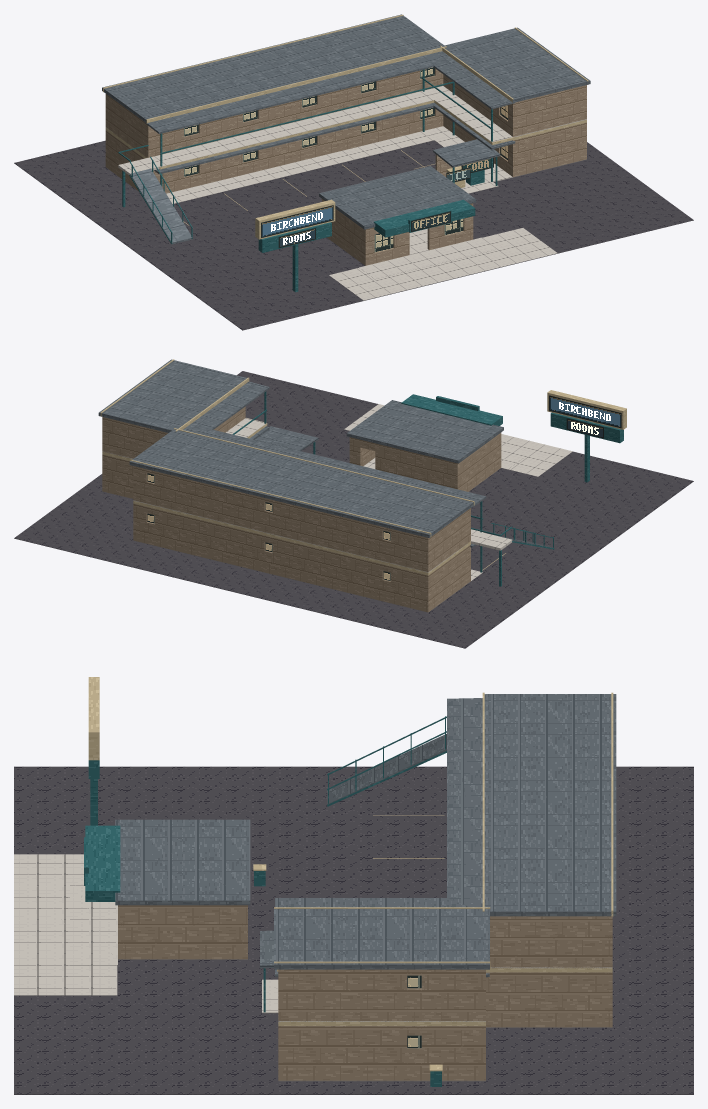
The model's file is birchbend-1985-far.glb.
3 renders of one model, top to bottom at view 1: azimuth 30°, elevation 25°; view 2: azimuth 150°, elevation 25°; view 3: azimuth 270°, elevation 25°, orthographic. The views are drawn at different scales.
Parts seen in each view (by area): view 1: shell, lot, exterior_stair, roadside_sign, sign_name_street, interior; view 2: shell, lot, roadside_sign, sign_name_exit, exterior_stair, interior; view 3: lot, shell, exterior_stair, roadside_sign, interior.
Boxes of the visible parts, bbox=[...] form: shell: bbox=[102, 14, 590, 265]; lot: bbox=[14, 140, 693, 330]; exterior_stair: bbox=[118, 145, 192, 244]; roadside_sign: bbox=[255, 199, 335, 292]; sign_name_street: bbox=[261, 205, 333, 237]; interior: bbox=[106, 119, 586, 265]; shell: bbox=[98, 359, 503, 612]; lot: bbox=[14, 371, 693, 648]; roadside_sign: bbox=[547, 390, 626, 482]; sign_name_exit: bbox=[549, 395, 621, 428]; exterior_stair: bbox=[471, 523, 554, 586]; interior: bbox=[102, 451, 500, 612]; lot: bbox=[14, 766, 693, 1094]; shell: bbox=[84, 692, 616, 1080]; exterior_stair: bbox=[327, 716, 446, 806]; roadside_sign: bbox=[88, 677, 99, 825]; interior: bbox=[118, 959, 612, 1081].
Size of the model in its own units: 35.8 by 6.15 by 31.4.
8 materials, 8 textured.
